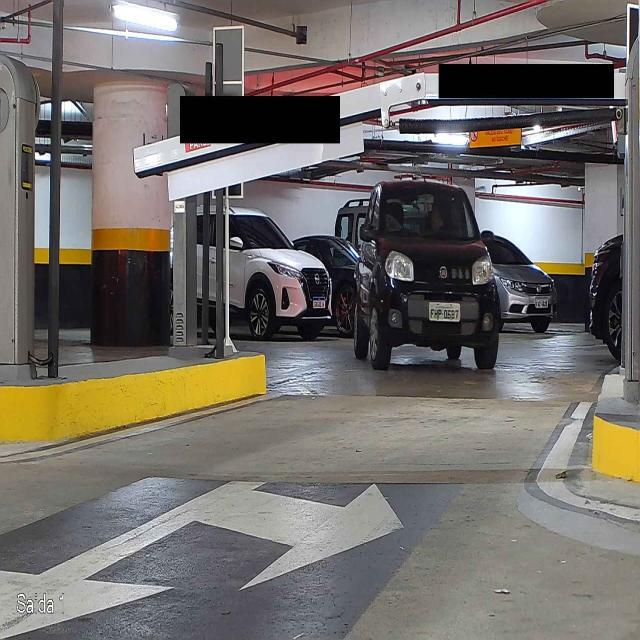old_plate: (428, 301, 462, 322)
